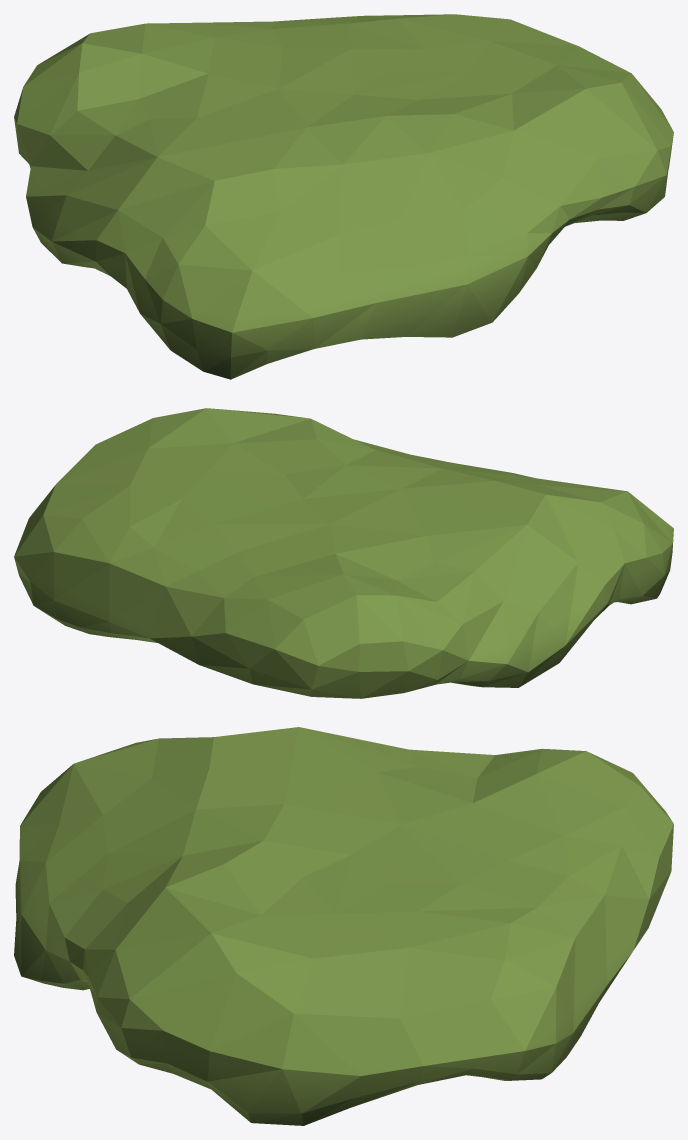
File: Jungle_PlatformRock_Med_A_Grass.fbx
3 renders of one model, top to bottom at view 1: azimuth 30°, elevation 25°; view 2: azimuth 150°, elevation 25°; view 3: azimuth 270°, elevation 25°, orthographic. The views are drawn at different scales.
Parts seen in each view (by area): view 1: Jungle_PlatformRock_Med_A_Grass; view 2: Jungle_PlatformRock_Med_A_Grass; view 3: Jungle_PlatformRock_Med_A_Grass.
Boxes of the visible parts, <box> form: Jungle_PlatformRock_Med_A_Grass: <box>14,14,673,379</box>; Jungle_PlatformRock_Med_A_Grass: <box>14,408,673,698</box>; Jungle_PlatformRock_Med_A_Grass: <box>14,727,673,1125</box>.
Bounding box in the file's own units: 12.42 × 2.99 × 11.26.
1 material, 1 textured.
